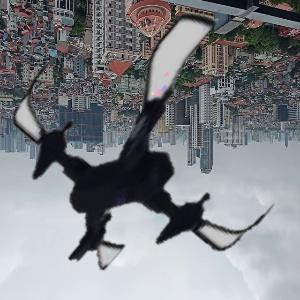drone: (5, 4, 292, 291)
